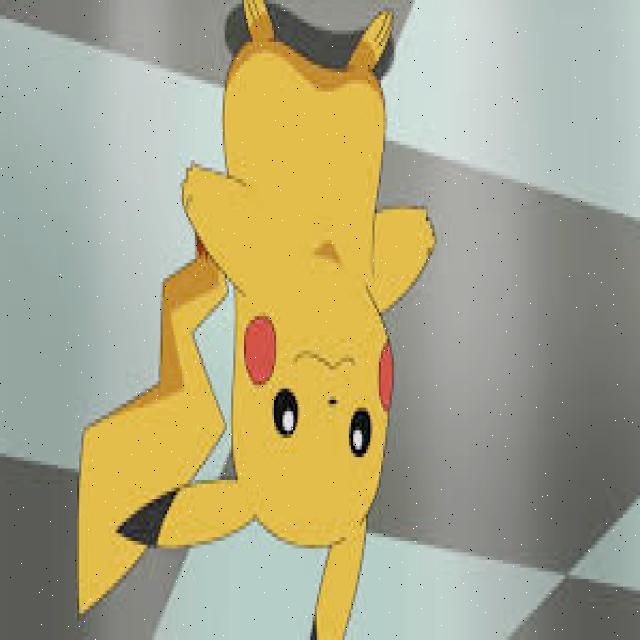pikachu: (90, 0, 438, 636)
